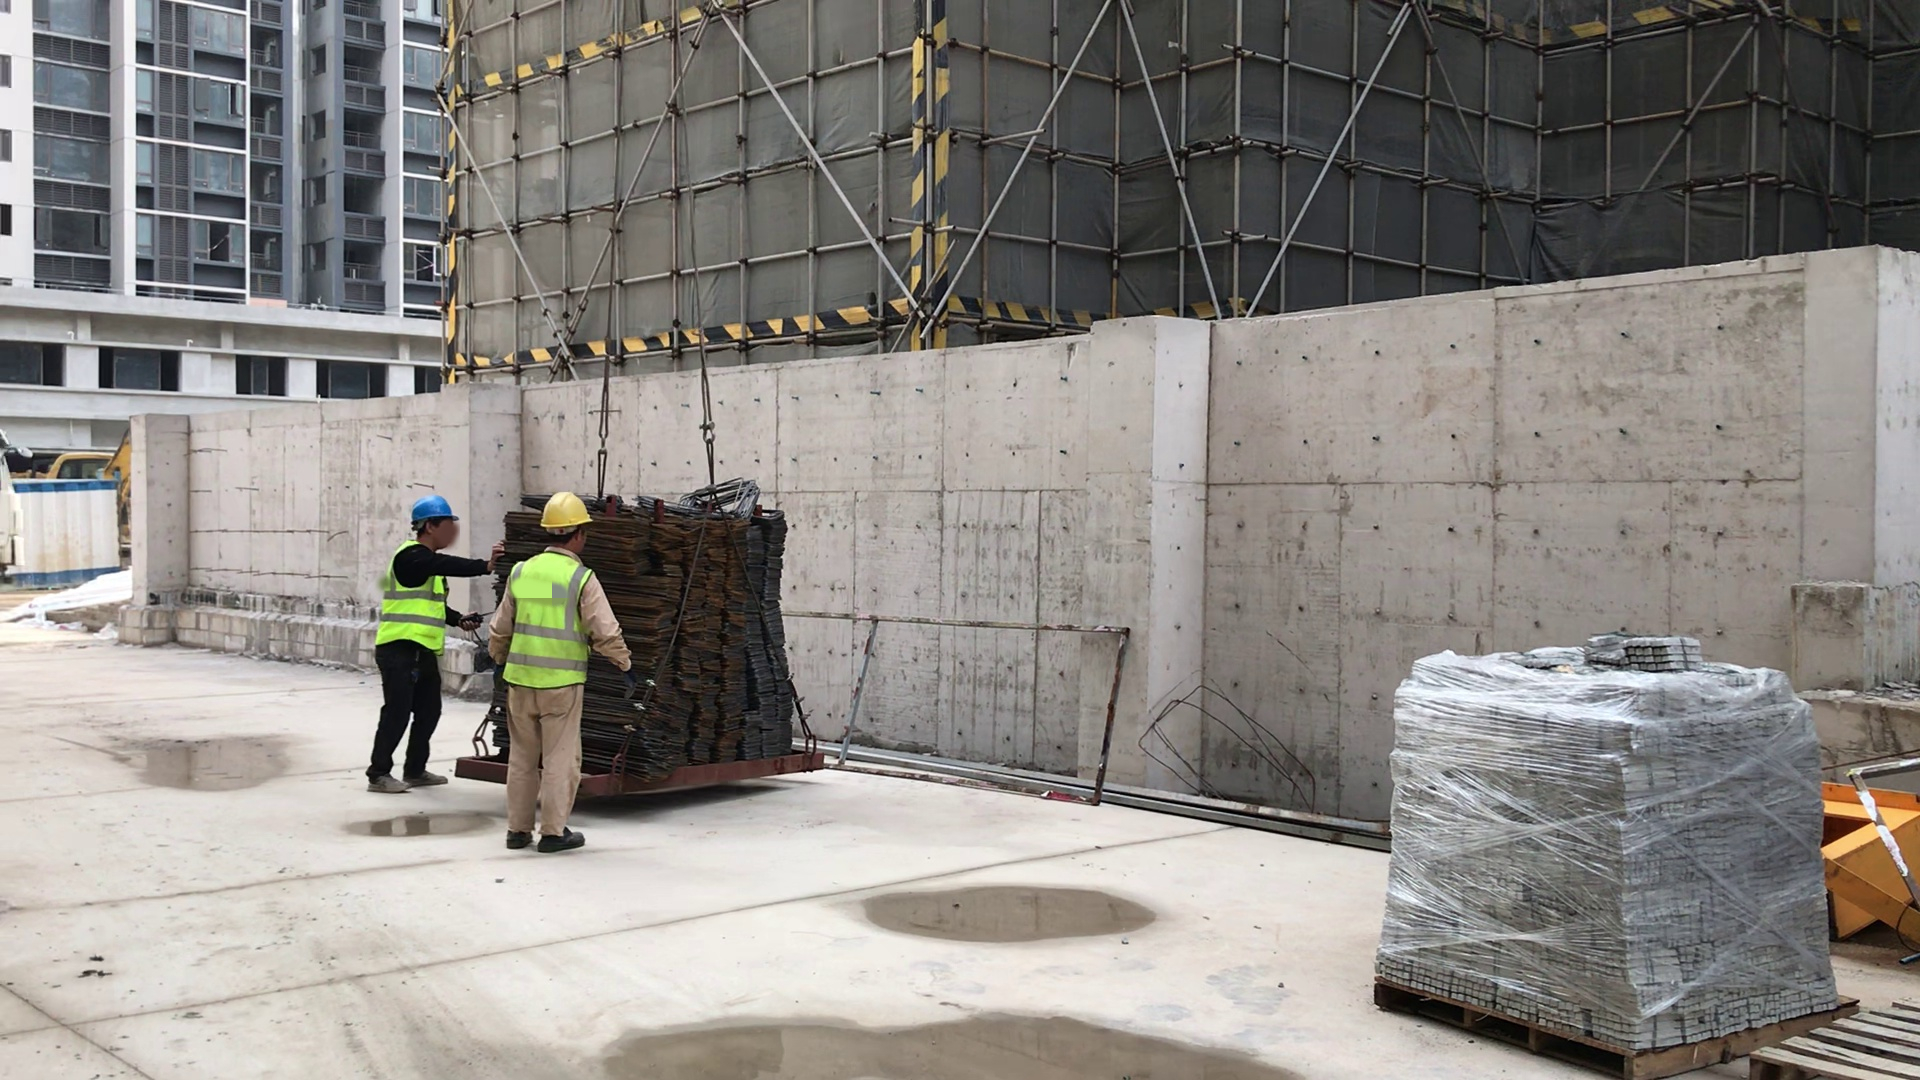helmet: (518, 492, 607, 530), (394, 480, 463, 522)
person: (501, 485, 630, 857), (366, 474, 453, 784)
vest: (503, 551, 597, 689), (376, 551, 462, 658)
